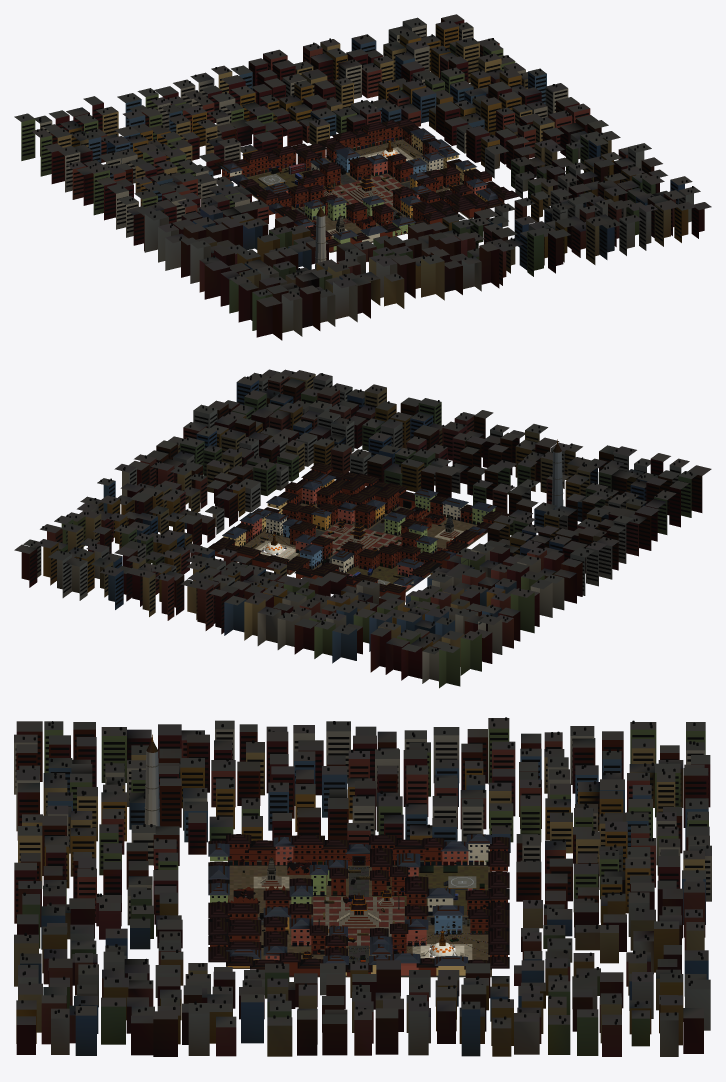
The model's file is map.glb.
3 renders of one model, top to bottom at view 1: azimuth 30°, elevation 25°; view 2: azimuth 150°, elevation 25°; view 3: azimuth 270°, elevation 25°, orthographic. The views are drawn at different scales.
Parts seen in each view (by area): view 1: Scenery, Arena; view 2: Scenery, Arena; view 3: Scenery, Arena.
Boxes of the visible parts, left/top/right/bottom form: Scenery: left=14, top=14, right=711, bottom=340; Arena: left=222, top=126, right=504, bottom=252; Scenery: left=14, top=369, right=711, bottom=688; Arena: left=215, top=468, right=495, bottom=602; Scenery: left=14, top=717, right=711, bottom=1056; Arena: left=210, top=844, right=507, bottom=977.
Size of what is drawn, in the model's own units: 353 by 59.23 by 351.
